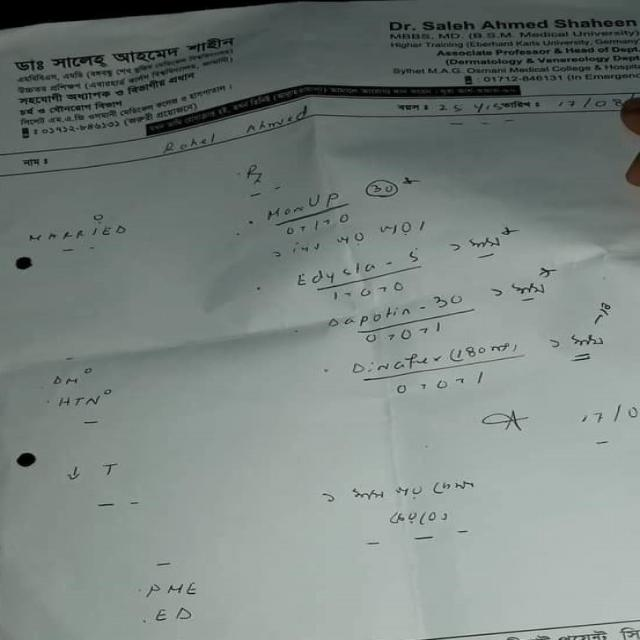Dapotin: (316, 301, 421, 333)
Dinafex: (341, 350, 449, 381)
Edysta: (288, 256, 392, 292)
